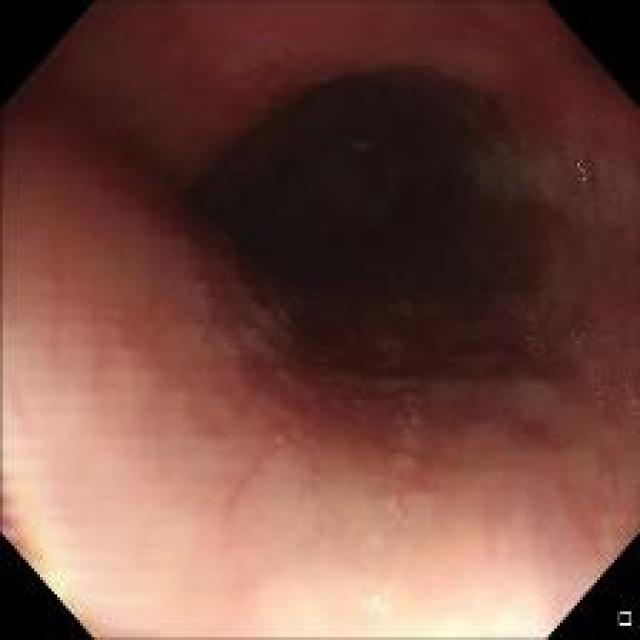blur: (124, 32, 608, 525)
bubbles: (454, 130, 615, 231), (365, 364, 416, 516), (185, 304, 295, 365), (520, 326, 542, 364), (594, 368, 609, 410), (564, 320, 578, 356)
contrast: (179, 56, 548, 341)
saturation: (51, 549, 560, 631)
